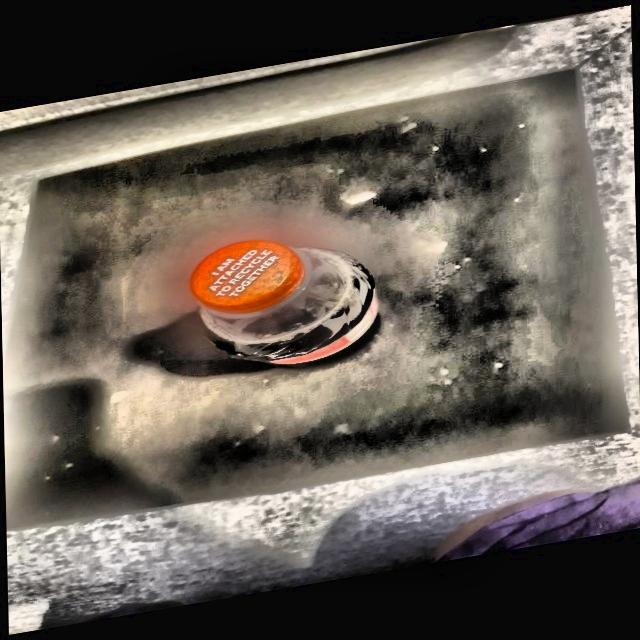coke-bottle: (184, 243, 376, 375)
